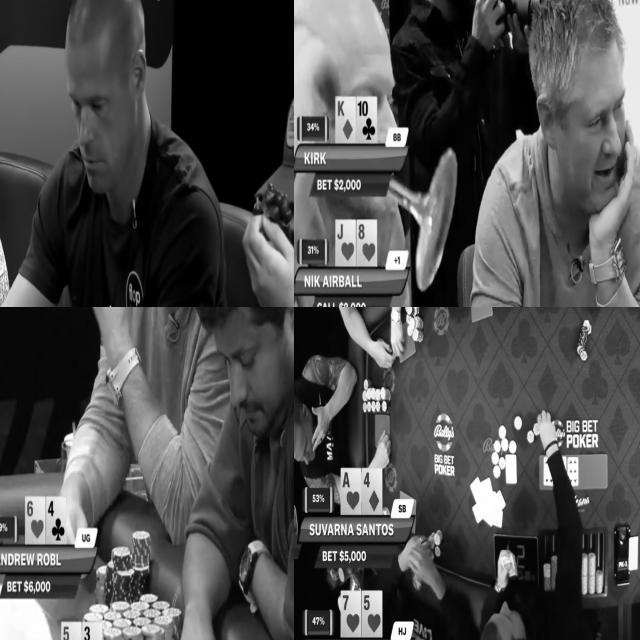10C: (356, 96, 377, 144)
3C: (83, 621, 101, 640)
4C: (47, 498, 65, 544)
4D: (361, 469, 382, 514)
5D: (61, 622, 80, 640)
5H: (362, 590, 382, 638)
6H: (26, 497, 45, 544)
7H: (341, 591, 361, 638)
8H: (357, 220, 376, 267)
AH: (341, 468, 362, 514)
JH: (336, 221, 356, 265)
KD: (336, 97, 355, 144)
